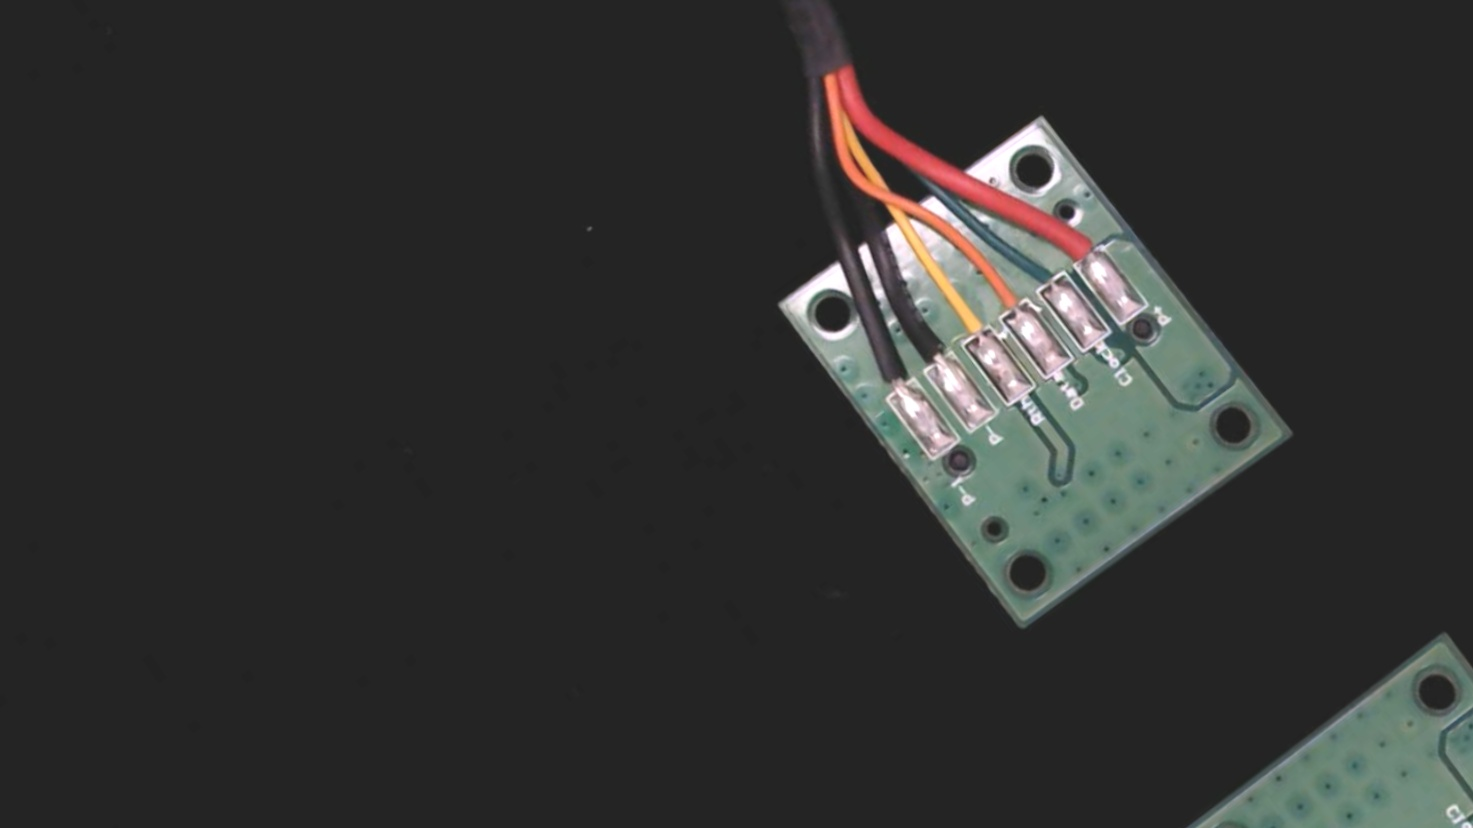Black: (879, 293, 972, 392)
Black1: (854, 336, 931, 418)
Green: (998, 228, 1079, 312)
Orange: (966, 254, 1043, 335)
Red: (1037, 202, 1115, 283)
Yellow: (928, 280, 1007, 362)
